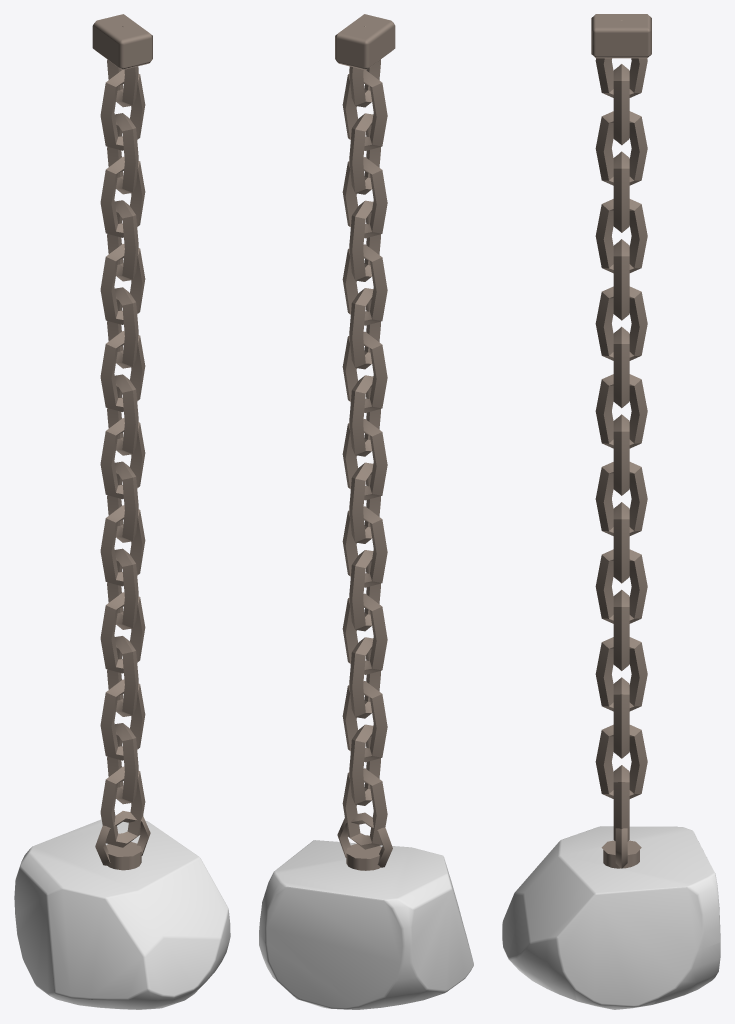
The model's file is mover_boulder_chain_c.glb.
3 renders of one model, left to right at view 1: azimuth 30°, elevation 25°; view 2: azimuth 150°, elevation 25°; view 3: azimuth 270°, elevation 25°, orthographic.
Visible parts, largest first — view 1: mover_boulder_chain_c; view 2: mover_boulder_chain_c; view 3: mover_boulder_chain_c.
Boxes of the visible parts, bbox=[...] form: mover_boulder_chain_c: bbox=[14, 14, 230, 1009]; mover_boulder_chain_c: bbox=[259, 14, 473, 1009]; mover_boulder_chain_c: bbox=[502, 14, 720, 1009].
Size of the model in its own units: 1.96 by 10.58 by 2.17.
